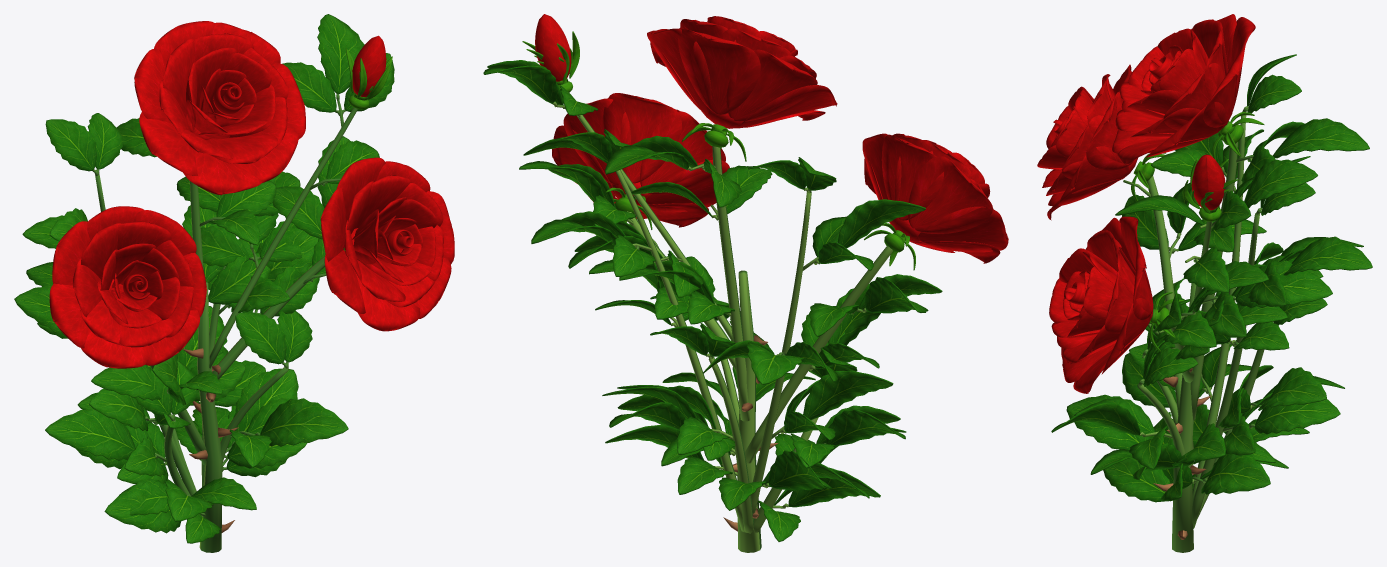
File: NP_Rose_Ready.fbx
3 renders of one model, left to right at view 1: azimuth 30°, elevation 25°; view 2: azimuth 150°, elevation 25°; view 3: azimuth 270°, elevation 25°, orthographic. The views are drawn at different scales.
Visible parts, largest first — view 1: NP_Rose_Ready; view 2: NP_Rose_Ready; view 3: NP_Rose_Ready.
Boxes of the visible parts, bbox=[...] form: NP_Rose_Ready: bbox=[14, 14, 454, 552]; NP_Rose_Ready: bbox=[483, 14, 1008, 552]; NP_Rose_Ready: bbox=[1037, 14, 1372, 552].
Size of the model in its own units: 73.2 by 84.92 by 49.23.
